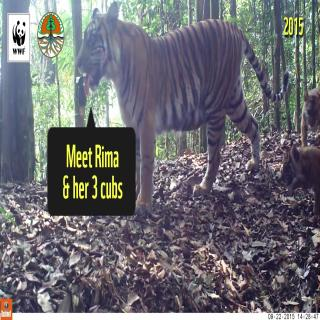Tiger: (79, 0, 264, 139), (276, 128, 320, 188), (293, 72, 320, 126)
